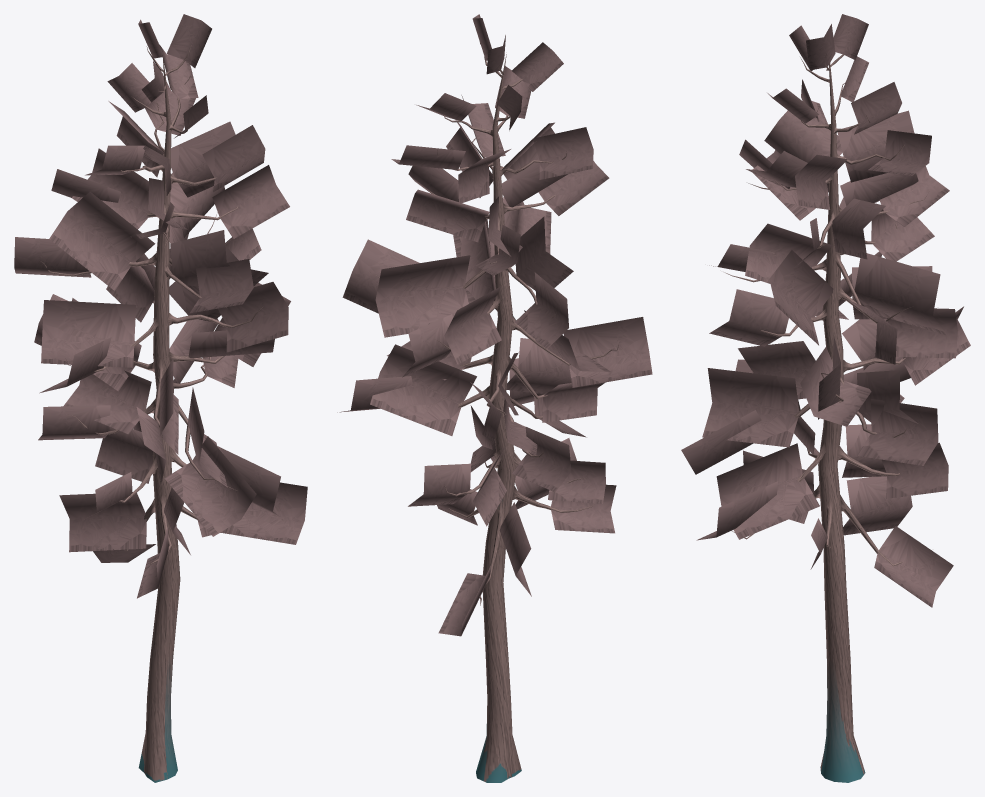
3 renders of one model, left to right at view 1: azimuth 30°, elevation 25°; view 2: azimuth 150°, elevation 25°; view 3: azimuth 270°, elevation 25°, orthographic.
Visible parts, largest first — view 1: submesh_1, submesh_0; view 2: submesh_1, submesh_0; view 3: submesh_1, submesh_0.
Boxes of the visible parts, x1=… form: submesh_1: x1=14, y1=14, x2=307, y2=598; submesh_0: x1=40, y1=45, x2=282, y2=782; submesh_1: x1=337, y1=14, x2=652, y2=636; submesh_0: x1=370, y1=40, x2=618, y2=782; submesh_1: x1=681, y1=14, x2=970, y2=607; submesh_0: x1=724, y1=53, x2=936, y2=782.
Bounding box in the file's own units: 5.11 × 13.77 × 4.75.
Materials: 2 (2 with a texture image).
